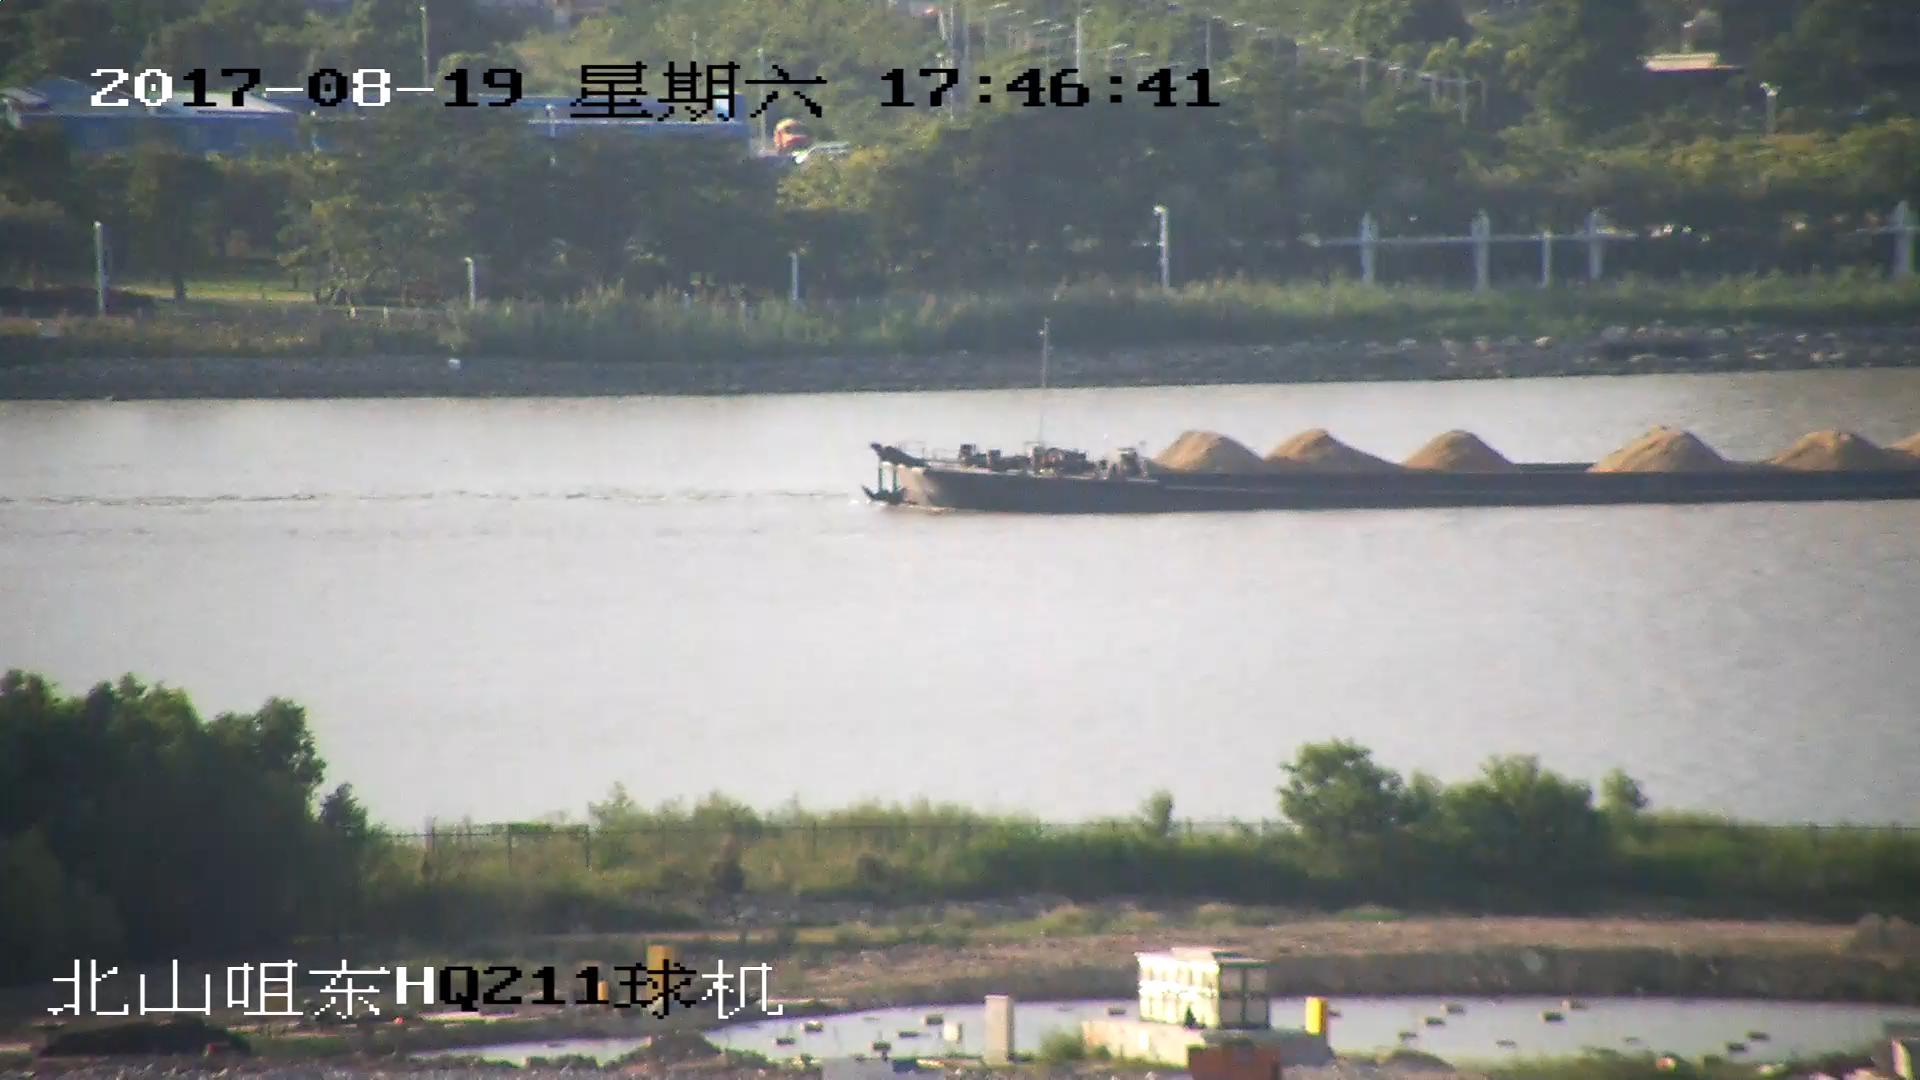ore carrier: (864, 408, 1920, 525)
